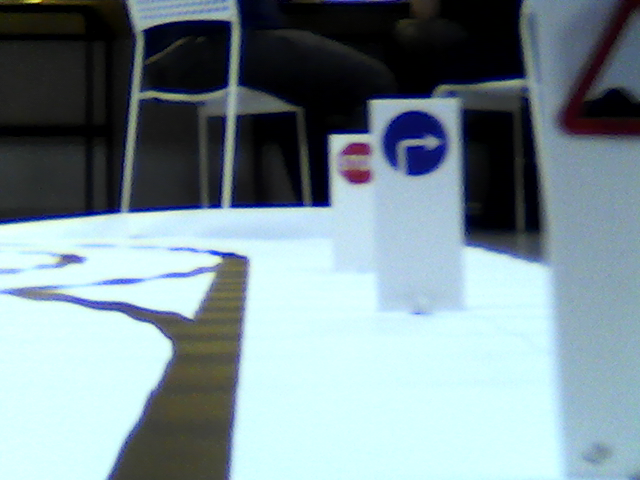Right: (379, 108, 449, 178)
Stop: (339, 140, 373, 182)
